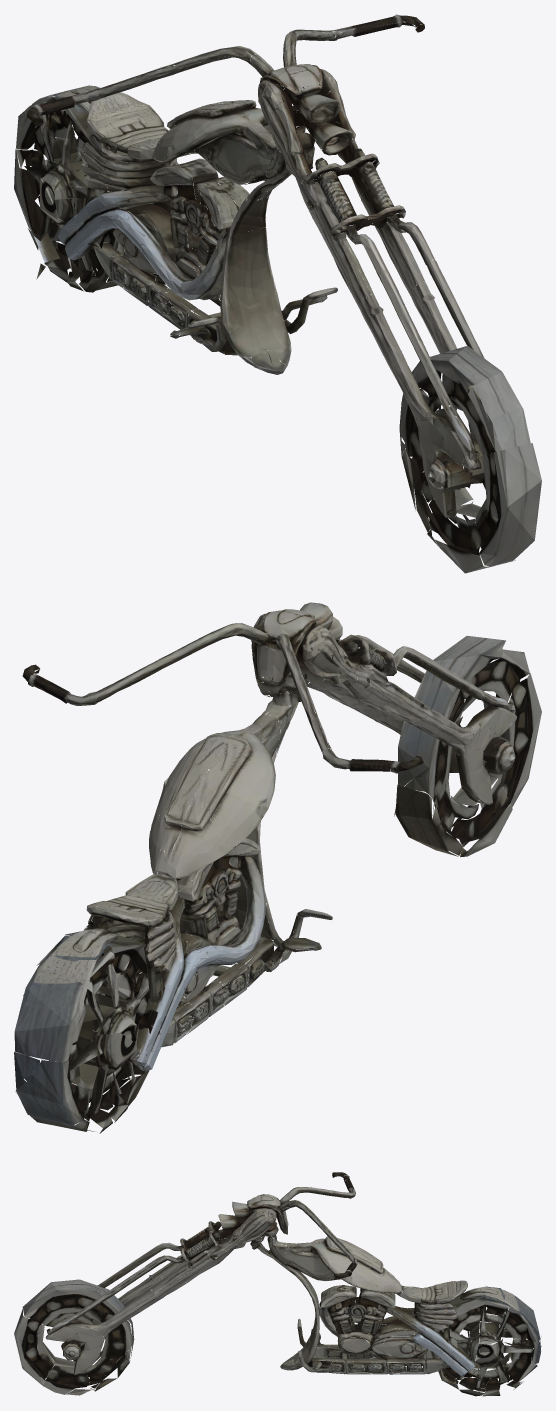
Rendered from motorcycle.glb.
3 views of the same model, one above another, from view 1: azimuth 30°, elevation 25°; view 2: azimuth 150°, elevation 25°; view 3: azimuth 270°, elevation 25° (orthographic). The views are drawn at different scales.
Visible parts, largest first — view 1: tripo_node_b05290bd-69b9-4add-9dbc-3a9ed5eea0a5.001, tripo_node_b05290bd-69b9-4add-9dbc-3a9ed5eea0a5.003, tripo_node_b05290bd-69b9-4add-9dbc-3a9ed5eea0a5.002; view 2: tripo_node_b05290bd-69b9-4add-9dbc-3a9ed5eea0a5.001, tripo_node_b05290bd-69b9-4add-9dbc-3a9ed5eea0a5.002, tripo_node_b05290bd-69b9-4add-9dbc-3a9ed5eea0a5.003; view 3: tripo_node_b05290bd-69b9-4add-9dbc-3a9ed5eea0a5.001, tripo_node_b05290bd-69b9-4add-9dbc-3a9ed5eea0a5.003, tripo_node_b05290bd-69b9-4add-9dbc-3a9ed5eea0a5.002.
Part boxes in pixels (left/top/right/bottom): tripo_node_b05290bd-69b9-4add-9dbc-3a9ed5eea0a5.001: left=19, top=14, right=485, bottom=518; tripo_node_b05290bd-69b9-4add-9dbc-3a9ed5eea0a5.003: left=399, top=346, right=541, bottom=573; tripo_node_b05290bd-69b9-4add-9dbc-3a9ed5eea0a5.002: left=14, top=87, right=161, bottom=292; tripo_node_b05290bd-69b9-4add-9dbc-3a9ed5eea0a5.001: left=22, top=602, right=516, bottom=1071; tripo_node_b05290bd-69b9-4add-9dbc-3a9ed5eea0a5.002: left=14, top=928, right=161, bottom=1133; tripo_node_b05290bd-69b9-4add-9dbc-3a9ed5eea0a5.003: left=394, top=635, right=541, bottom=857; tripo_node_b05290bd-69b9-4add-9dbc-3a9ed5eea0a5.001: left=45, top=1172, right=528, bottom=1376; tripo_node_b05290bd-69b9-4add-9dbc-3a9ed5eea0a5.003: left=14, top=1279, right=134, bottom=1395; tripo_node_b05290bd-69b9-4add-9dbc-3a9ed5eea0a5.002: left=430, top=1286, right=541, bottom=1396.
Bounding box in the file's own units: 0.203 × 0.1819 × 0.4378.
Materials: 1 (1 with a texture image).
